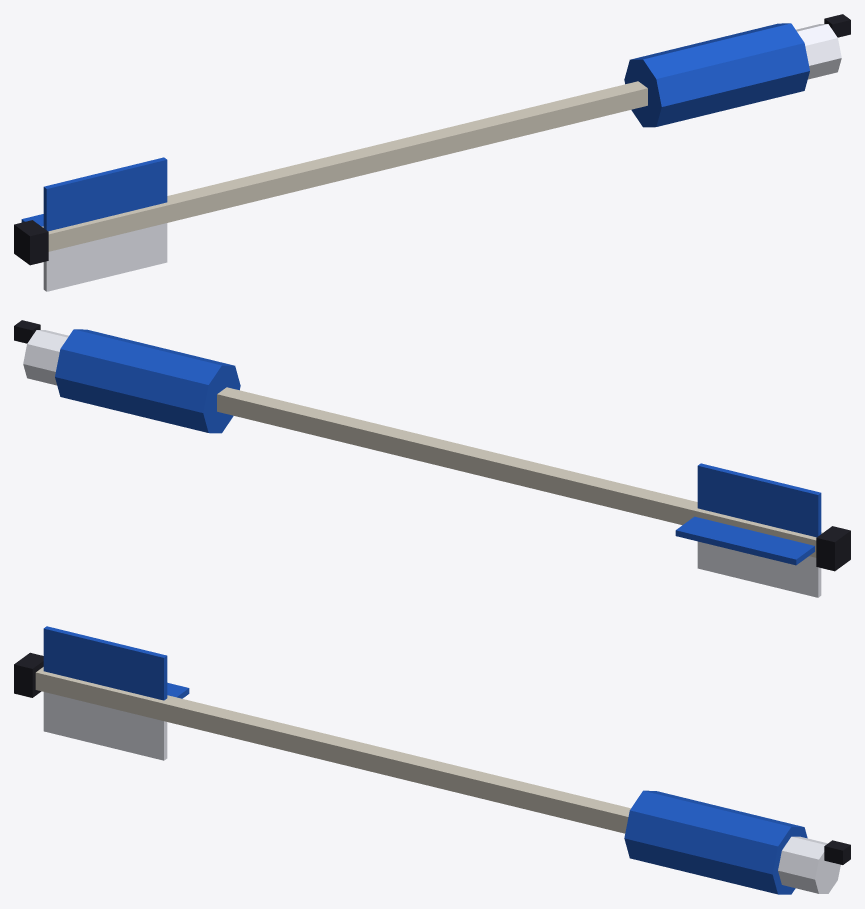
File: fleche_tag.glb
The picture shows the model from 3 angles, top to bottom: view 1: azimuth 30°, elevation 25°; view 2: azimuth 150°, elevation 25°; view 3: azimuth 330°, elevation 25°; orthographic projection.
Visible parts, largest first — view 1: p_box.3492, p_cyl.331, p_box.3493, p_box.3494, p_cyl.332, p_box.3496; view 2: p_box.3492, p_cyl.331, p_box.3493, p_box.3494, p_box.3495, p_cyl.332, p_box.3496; view 3: p_box.3492, p_cyl.331, p_box.3493, p_box.3494, p_cyl.332, p_box.3496, p_box.3497.
Boxes of the visible parts, <box> form: p_box.3492: <box>42,81,647,251</box>; p_cyl.331: <box>624,23,809,127</box>; p_box.3493: <box>43,157,167,231</box>; p_box.3494: <box>43,223,167,291</box>; p_cyl.332: <box>796,24,841,79</box>; p_box.3496: <box>14,220,48,265</box>; p_box.3492: <box>217,387,822,557</box>; p_cyl.331: <box>55,329,240,433</box>; p_box.3493: <box>697,463,821,537</box>; p_box.3494: <box>697,541,821,597</box>; p_box.3495: <box>675,516,814,565</box>; p_cyl.332: <box>23,330,68,385</box>; p_box.3496: <box>816,526,850,571</box>; p_box.3492: <box>35,667,630,833</box>; p_cyl.331: <box>624,790,807,894</box>; p_box.3493: <box>43,626,167,700</box>; p_box.3494: <box>43,692,167,760</box>; p_cyl.332: <box>778,836,840,893</box>; p_box.3496: <box>14,652,43,697</box>; p_box.3497: <box>824,840,850,864</box>.
Size of the model in its own units: 0.89 by 0.106 by 0.079.
